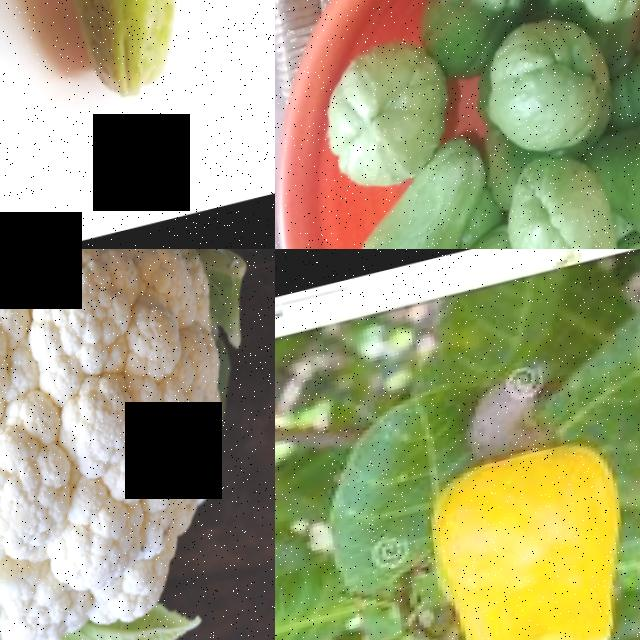cashew: (436, 349, 610, 478)
cauliflower: (0, 249, 275, 640)
chayote: (0, 0, 275, 152), (300, 37, 489, 196), (478, 21, 640, 146), (0, 0, 113, 177), (306, 173, 515, 249), (443, 0, 571, 42)
